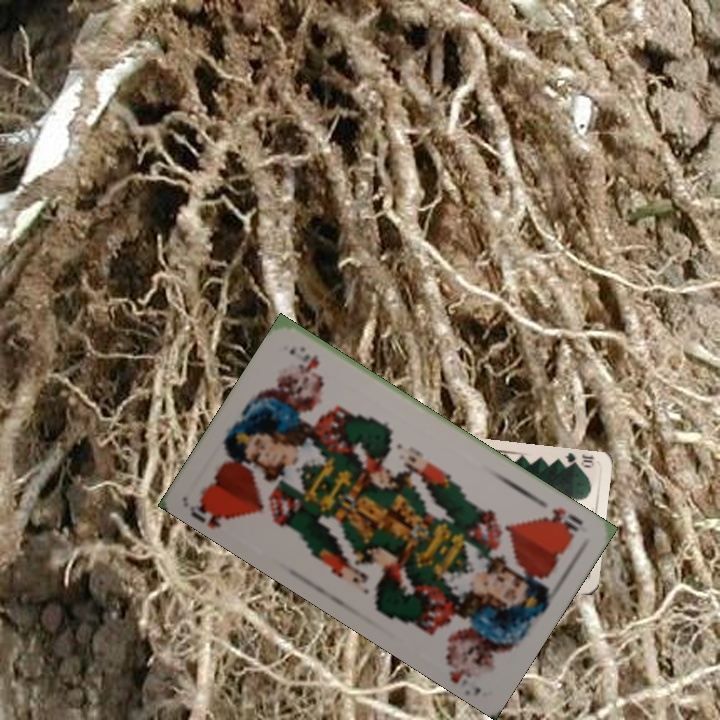G10: (557, 450, 597, 471)
HO: (185, 493, 237, 531), (539, 504, 586, 539)
